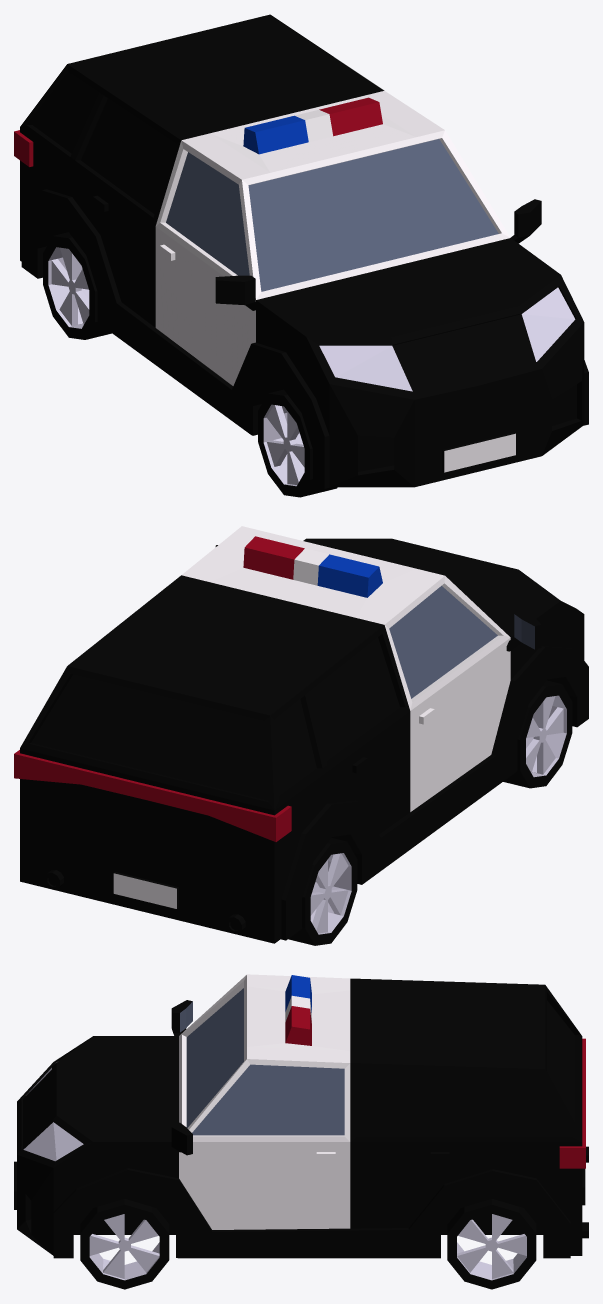
File: Police SUV.glb
The picture shows the model from 3 angles, top to bottom: view 1: azimuth 30°, elevation 25°; view 2: azimuth 150°, elevation 25°; view 3: azimuth 270°, elevation 25°; orthographic projection. The views are drawn at different scales.
Parts seen in each view (by area): view 1: Police SUV; view 2: Police SUV; view 3: Police SUV.
Part boxes in pixels (x1,y1,x2,y2): Police SUV: [14, 14, 588, 497]; Police SUV: [14, 526, 588, 945]; Police SUV: [14, 974, 588, 1289].
Size of the model in its own units: 0.6168 by 0.4964 by 1.1.
